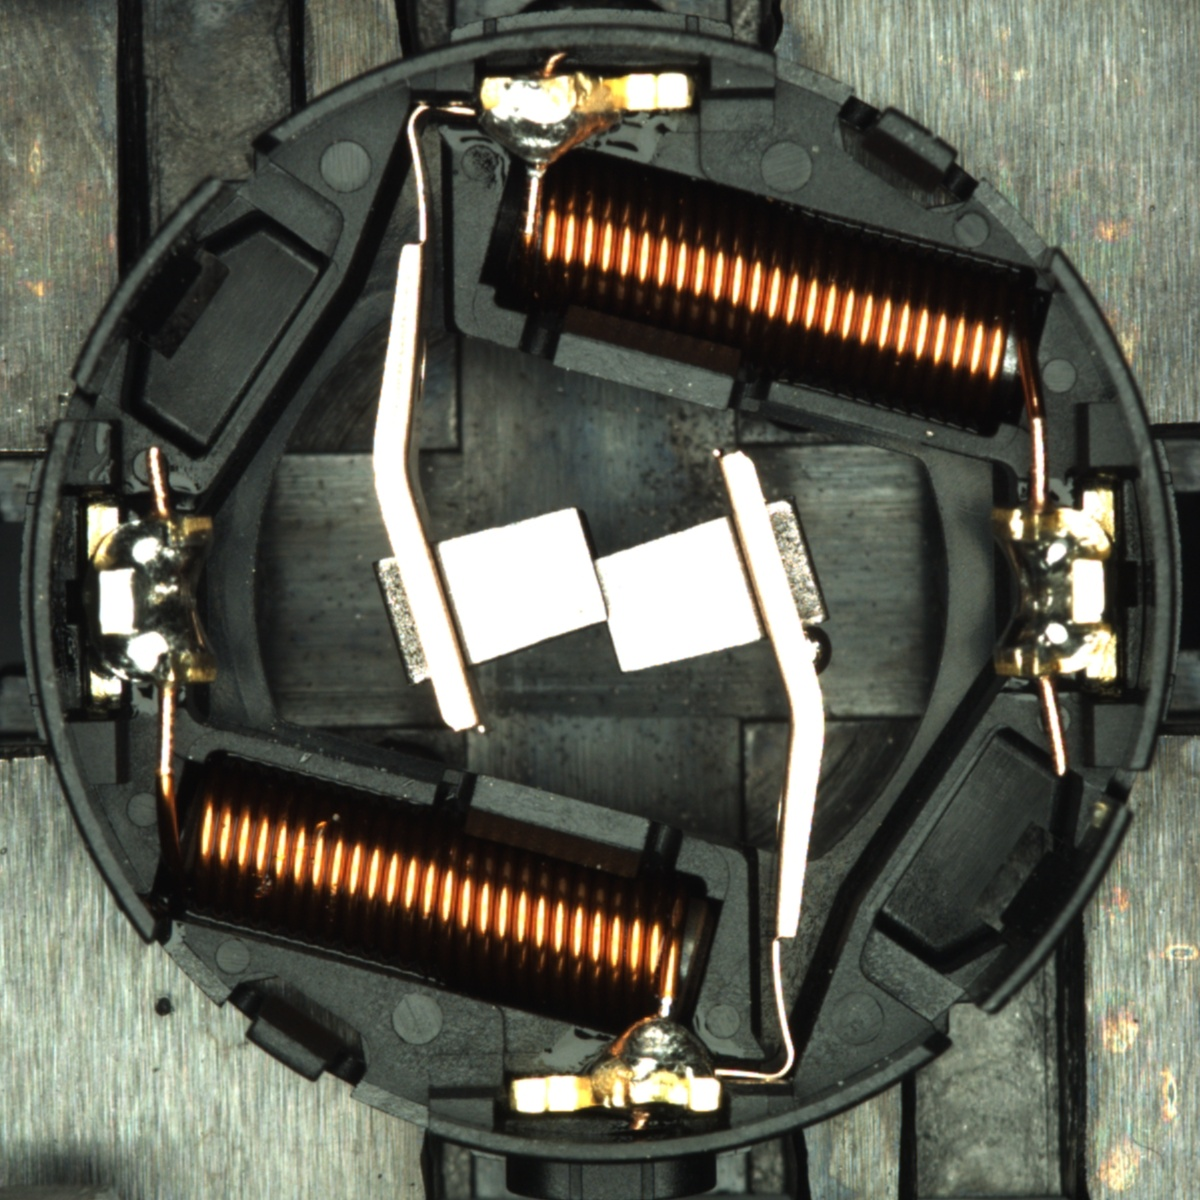1: (254, 29, 483, 253), (712, 927, 941, 1151)
2: (712, 29, 941, 253), (254, 927, 483, 1151)
3: (24, 253, 254, 478), (941, 702, 1171, 927)
4: (254, 253, 483, 478), (712, 702, 941, 927)
5: (483, 141, 712, 366), (483, 814, 712, 1039)
6: (712, 253, 941, 478), (254, 702, 483, 927)
7: (941, 253, 1171, 478), (24, 702, 254, 927)
cacbon: (395, 496, 800, 684)
chau_dien: (81, 498, 222, 701), (984, 489, 1123, 686)
hat_chi: (801, 626, 833, 675)
tay_choi: (478, 71, 696, 171), (508, 1014, 723, 1115)
thanh_de: (956, 788, 1141, 1030), (59, 164, 244, 404)
